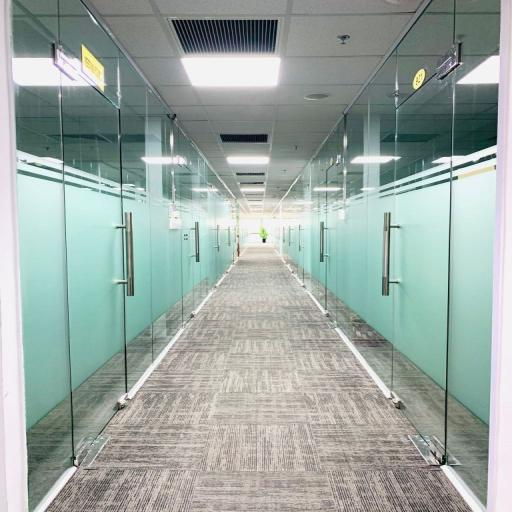child: (8, 0, 512, 512)
elevator: (12, 0, 239, 509), (278, 0, 501, 509)
